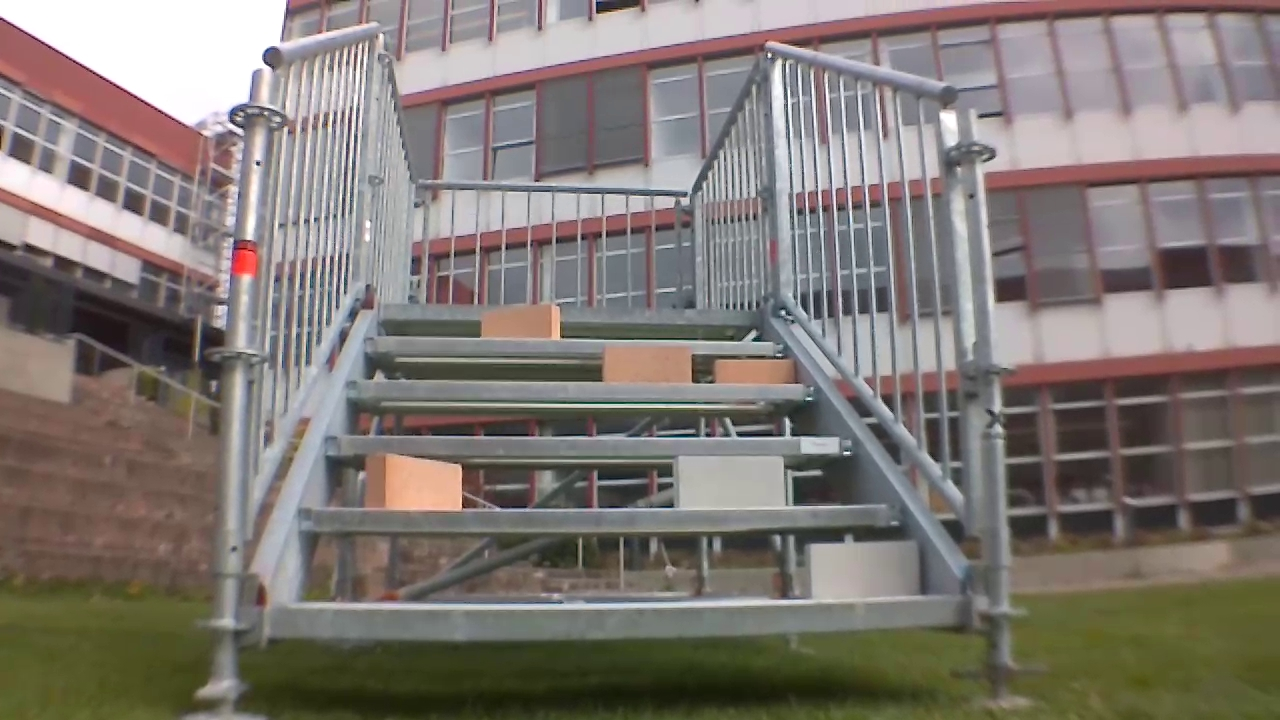brick: (805, 543, 919, 597), (671, 455, 781, 507), (366, 453, 462, 508), (602, 345, 690, 380), (482, 303, 559, 339), (714, 359, 792, 382)
edge: (270, 598, 962, 640), (296, 503, 905, 531), (326, 436, 852, 457), (345, 382, 818, 401), (380, 301, 759, 323), (365, 336, 786, 354)
stairs: (198, 22, 1048, 717)
steps: (264, 292, 972, 647)
